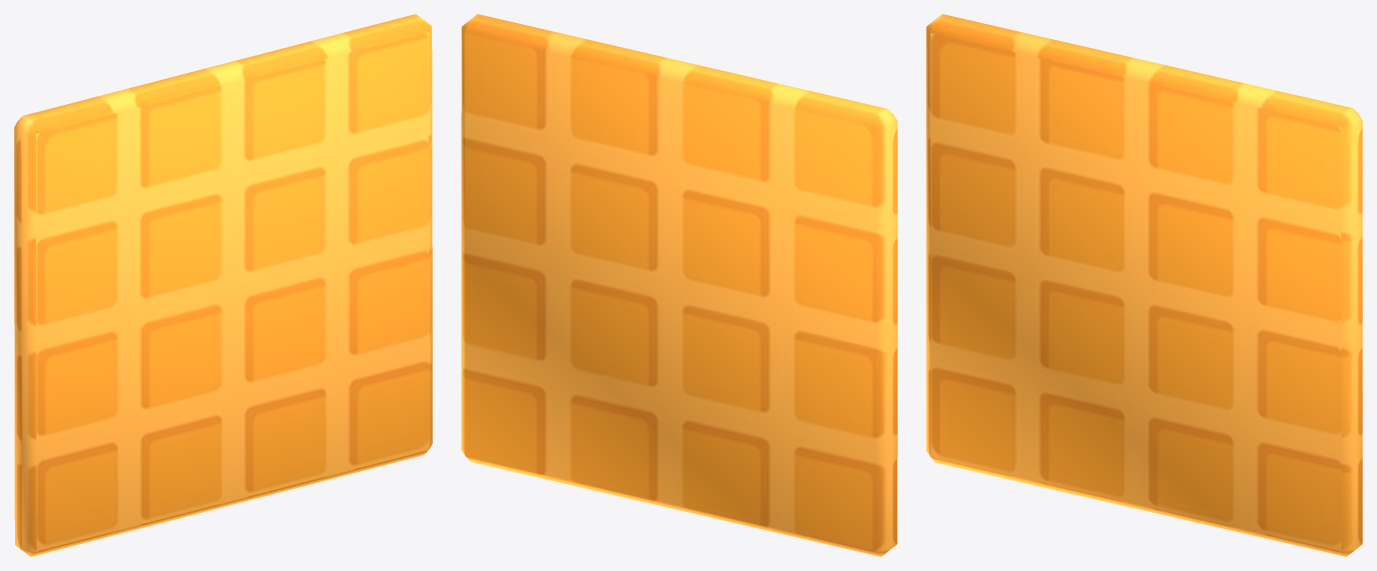
The model's file is orange_waffle.glb.
3 views of the same model, side by side, from view 1: azimuth 30°, elevation 25°; view 2: azimuth 150°, elevation 25°; view 3: azimuth 330°, elevation 25° (orthographic).
Visible parts, largest first — view 1: Orange_Waffle; view 2: Orange_Waffle; view 3: Orange_Waffle.
Boxes of the visible parts, x1=… form: Orange_Waffle: x1=14, y1=14, x2=432, y2=556; Orange_Waffle: x1=461, y1=14, x2=897, y2=556; Orange_Waffle: x1=926, y1=14, x2=1362, y2=556.
Bounding box in the file's own units: 0.5544 × 0.5542 × 0.0539.
Materials: 1 (1 with a texture image).
